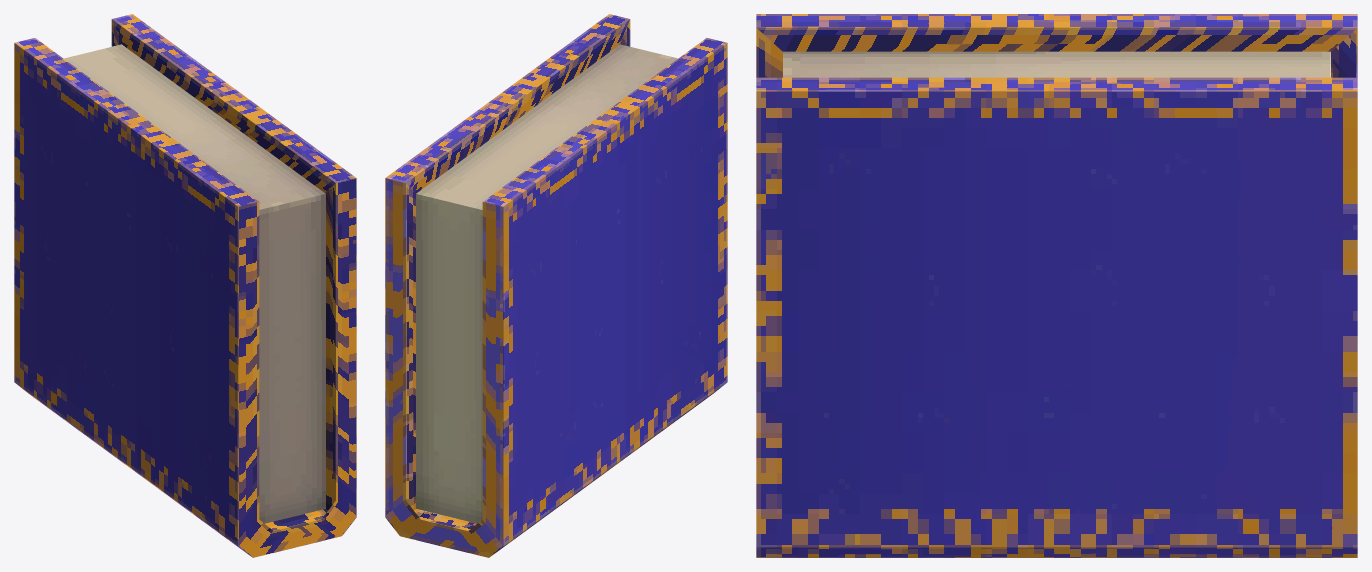
File: item_alchemist_book.glb
3 views of the same model, side by side, from view 1: azimuth 30°, elevation 25°; view 2: azimuth 150°, elevation 25°; view 3: azimuth 270°, elevation 25° (orthographic). The views are drawn at different scales.
Visible parts, largest first — view 1: AlchemistBook_Closed; view 2: AlchemistBook_Closed; view 3: AlchemistBook_Closed.
Boxes of the visible parts, bbox=[...] form: AlchemistBook_Closed: bbox=[14, 14, 356, 557]; AlchemistBook_Closed: bbox=[385, 14, 727, 557]; AlchemistBook_Closed: bbox=[756, 14, 1357, 557].
Size of the model in its own units: 0.1307 by 0.3747 by 0.4291.
1 material, 1 textured.
